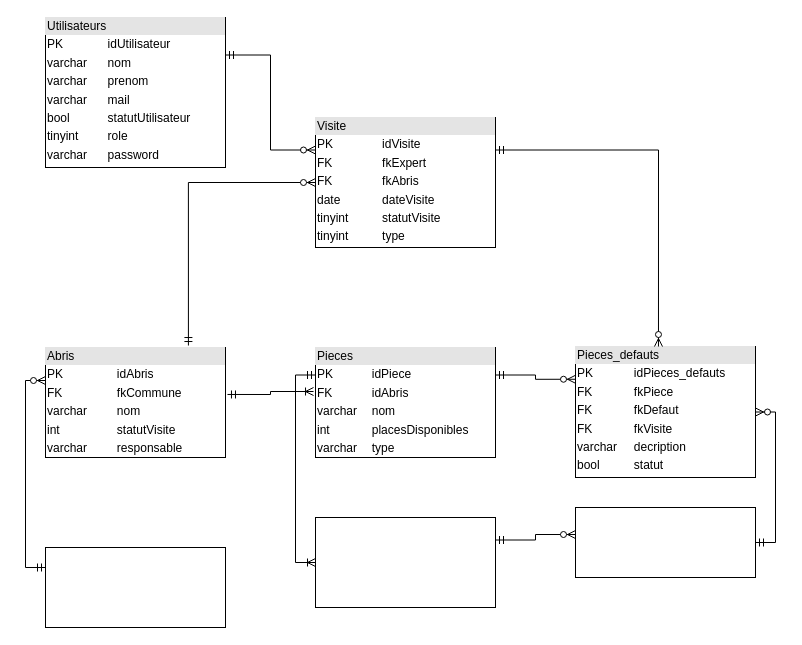
This 802x645 diagram has some shape labels left out. Here are the shapes that lost their labels. From the top down, the centre of each, then its label:
the point at 405,562: Defauts_disponibles PK idDefaut FK idPieces FK idDefauts bool statut
the point at 665,542: Defauts PK idDefaut varchar type vachar description
the point at 135,587: Communes PK idCommune varchar nom varchar region
